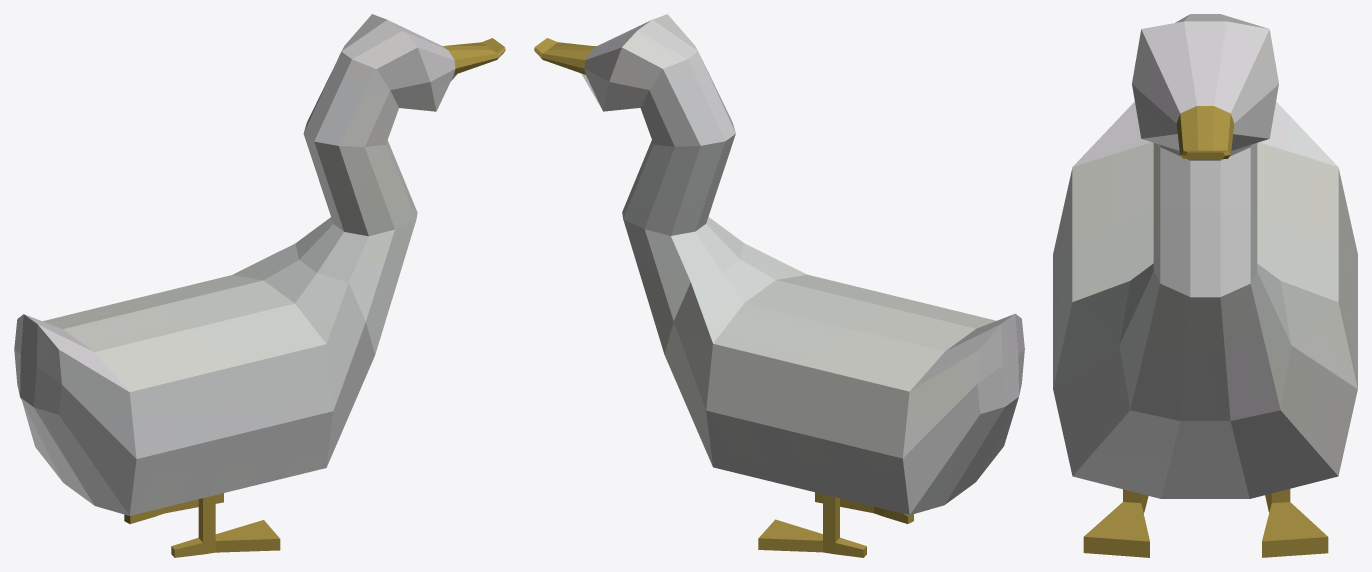
Rendered from CHAHIN_DUCK.gltf.
The picture shows the model from 3 angles, left to right: view 1: azimuth 30°, elevation 25°; view 2: azimuth 150°, elevation 25°; view 3: azimuth 270°, elevation 25°; orthographic projection. The views are drawn at different scales.
Visible parts, largest first — view 1: node-0; view 2: node-0; view 3: node-0.
Boxes of the visible parts, x1,y1,x2,y2 form: node-0: [14, 14, 505, 557]; node-0: [534, 14, 1024, 557]; node-0: [1053, 14, 1357, 557].
Size of the model in its own units: 2.58 by 2.38 by 1.03.
1 material, 1 textured.
